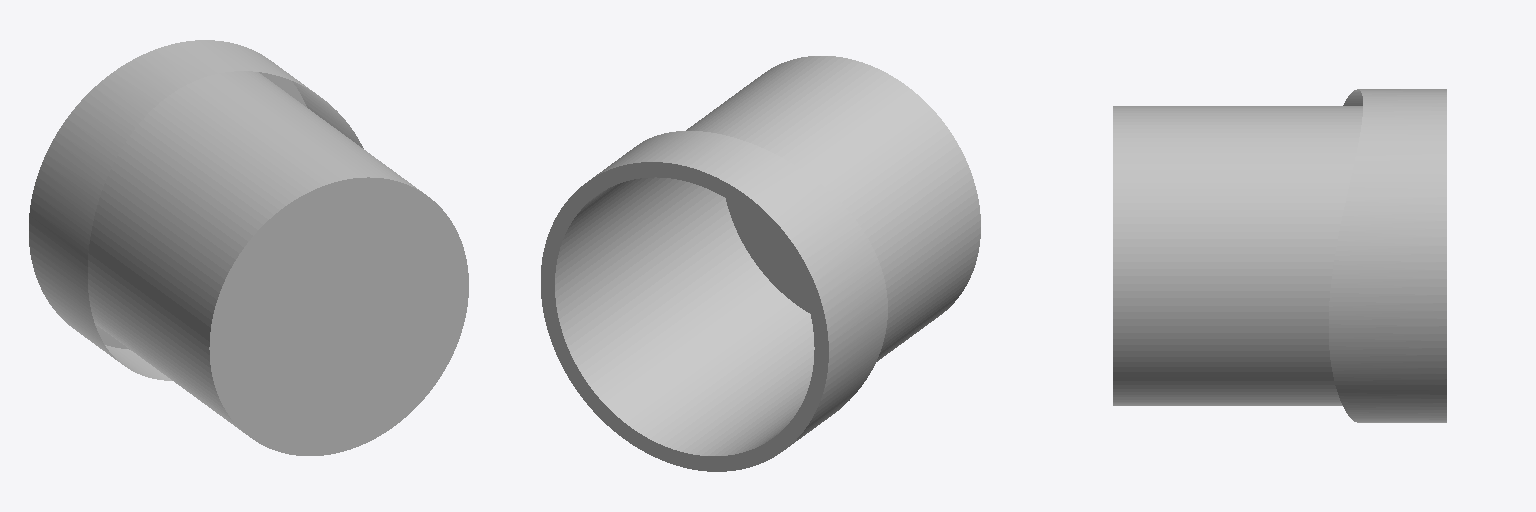
Rendered from filter_outlet_pipe.obj.
The picture shows the model from 3 angles: view 1: azimuth 30°, elevation 25°; view 2: azimuth 150°, elevation 25°; view 3: azimuth 270°, elevation 25°; orthographic projection.
Parts seen in each view (by area): view 1: obj1; view 2: obj1; view 3: obj1.
Part boxes in pixels (x1,y1,x2,y2): obj1: (29,40,468,455); obj1: (541,56,980,471); obj1: (1113,89,1446,422).
Size of the model in its own units: 2 by 2 by 2.